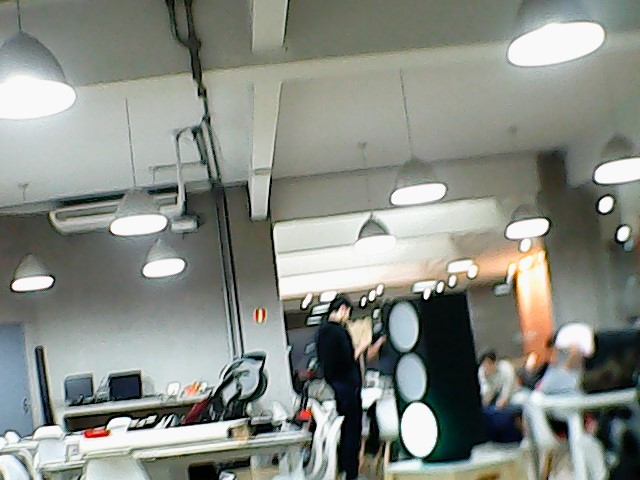verde: (368, 292, 495, 465)
